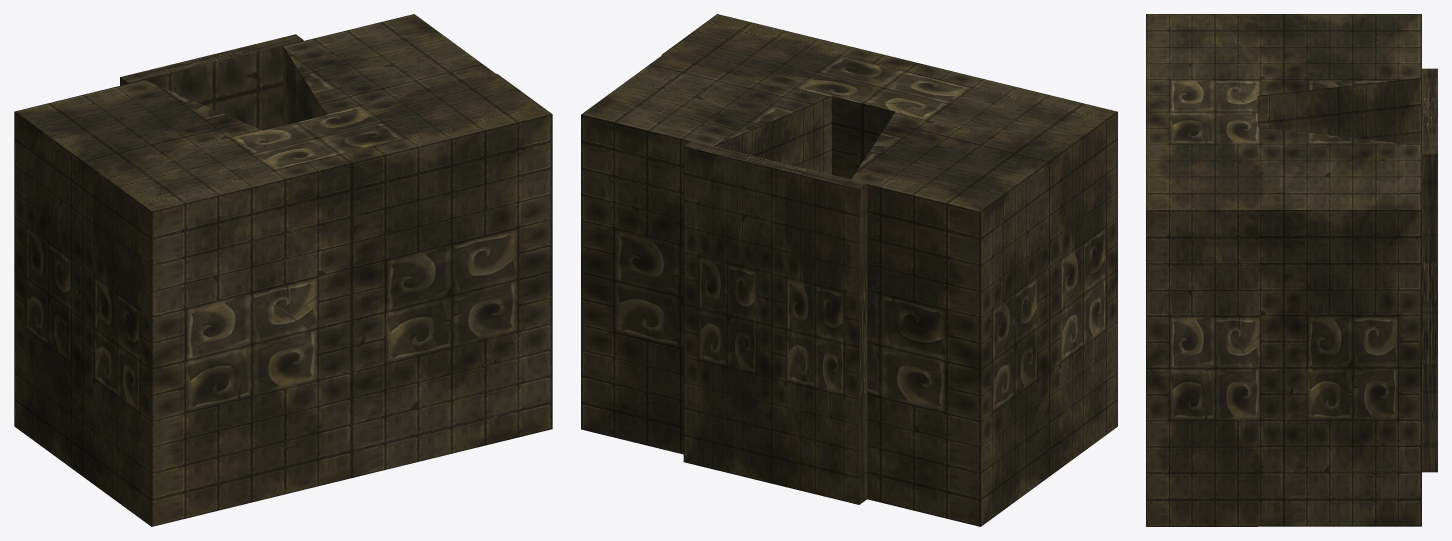
Rendered from cooridor4dp_wtf.obj.
3 views of the same model, side by side, from view 1: azimuth 30°, elevation 25°; view 2: azimuth 150°, elevation 25°; view 3: azimuth 270°, elevation 25° (orthographic).
Visible parts, largest first — view 1: group2; view 2: group2; view 3: group2.
Part boxes in pixels (<box>): group2: <box>14,14,552,526</box>; group2: <box>581,14,1117,526</box>; group2: <box>1146,14,1437,526</box>.
Size of the model in its own units: 660 by 497 by 414.
